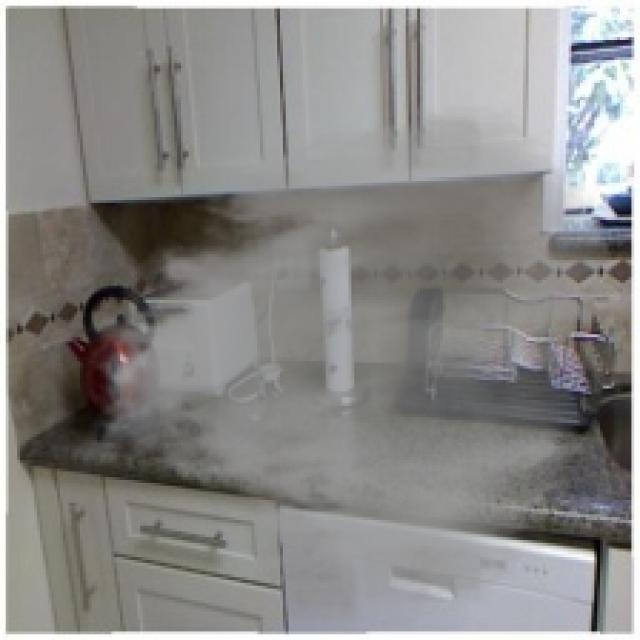Smoke: (72, 100, 618, 634)
